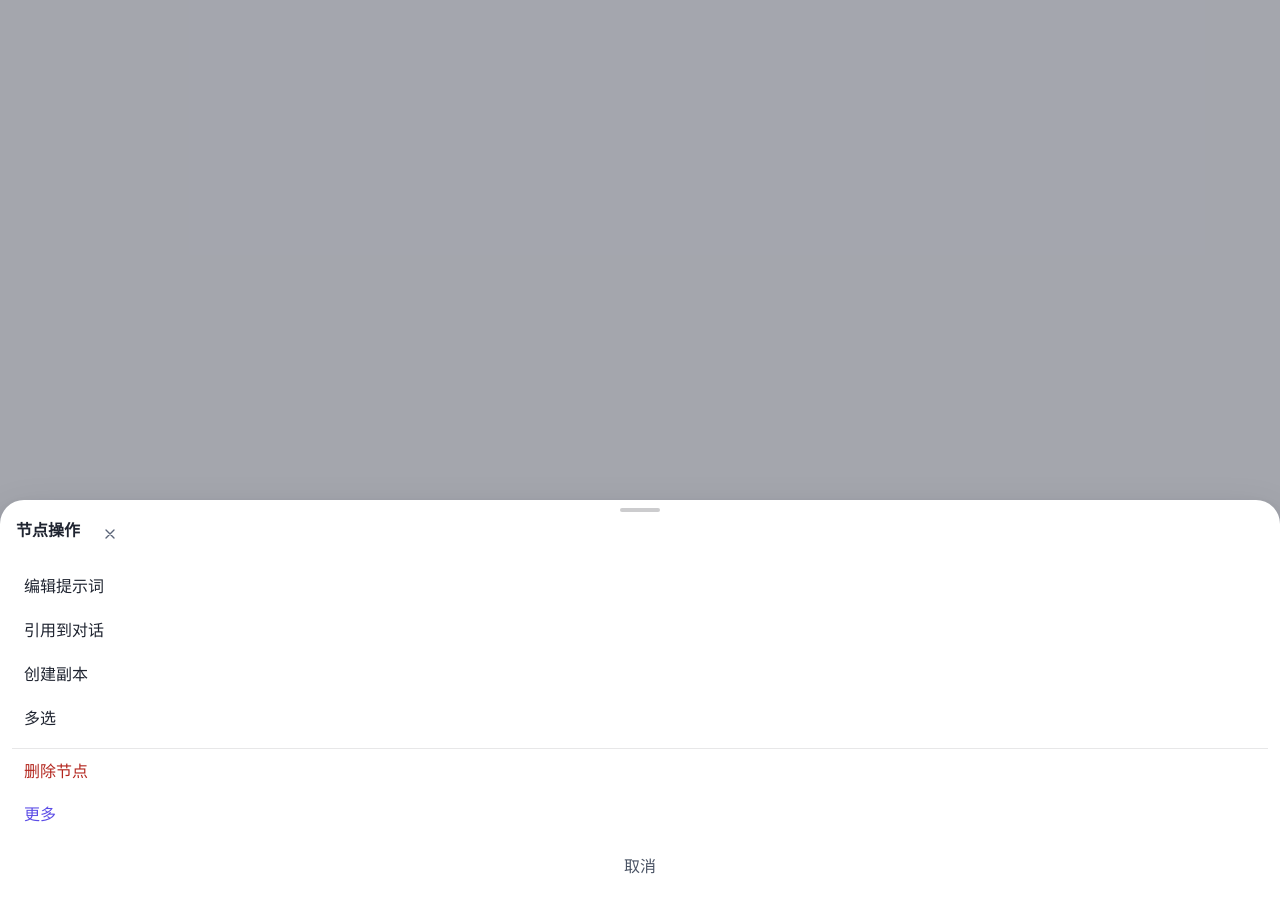
it: MobileNodeActionSheet（Menu · 一级/二级分层） › 点「返回」⇒ 回到一级
The image size is (1280, 900).
Click the button "更多" at (40, 814), box 12,792 -> 1268,836
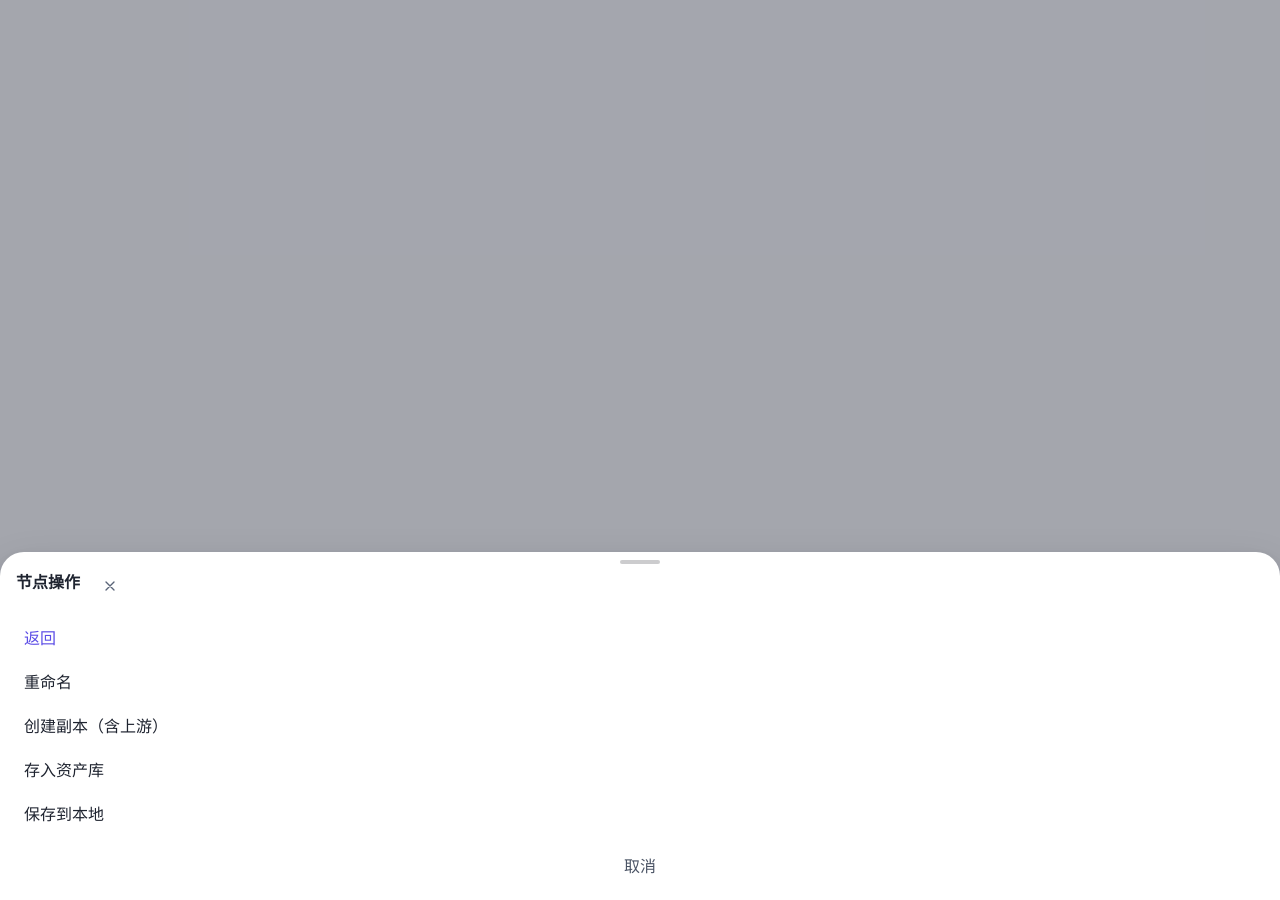
Click the button "返回" at (40, 638), box 12,616 -> 1268,660
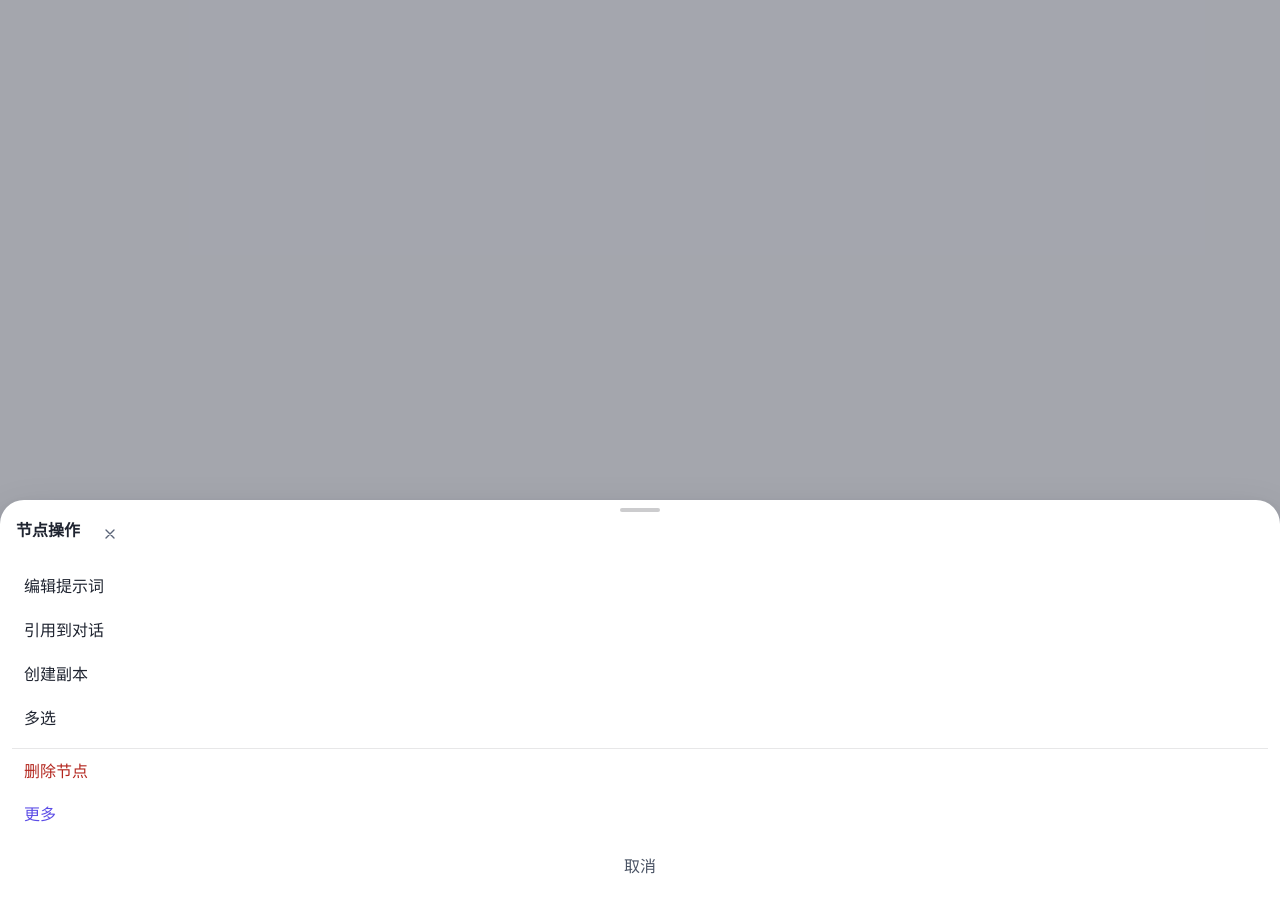
Expected: the button "编辑提示词" is shown, 12,564 -> 1268,608
Expected: the button "更多" is shown, 12,792 -> 1268,836
